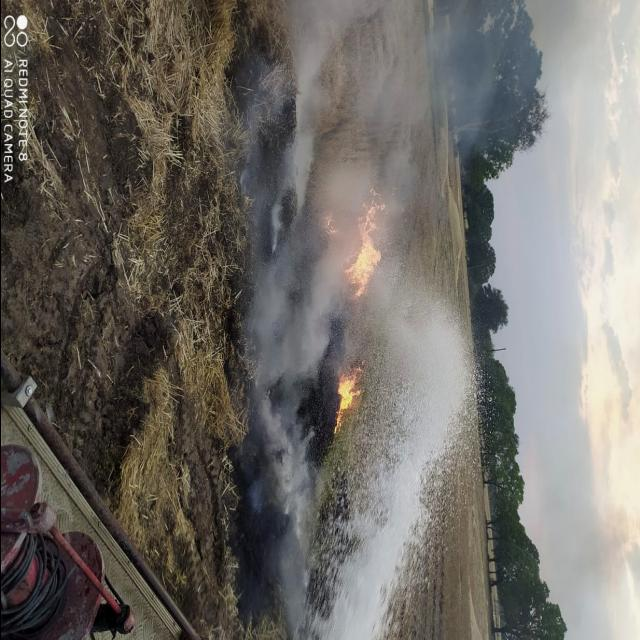firerotation: (322, 182, 390, 300), (332, 360, 368, 434)
